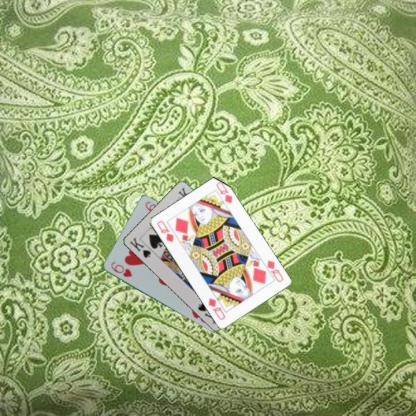6h: (108, 260, 134, 278)
Ks: (126, 235, 152, 260)
Qd: (260, 258, 284, 283), (154, 218, 174, 243)
